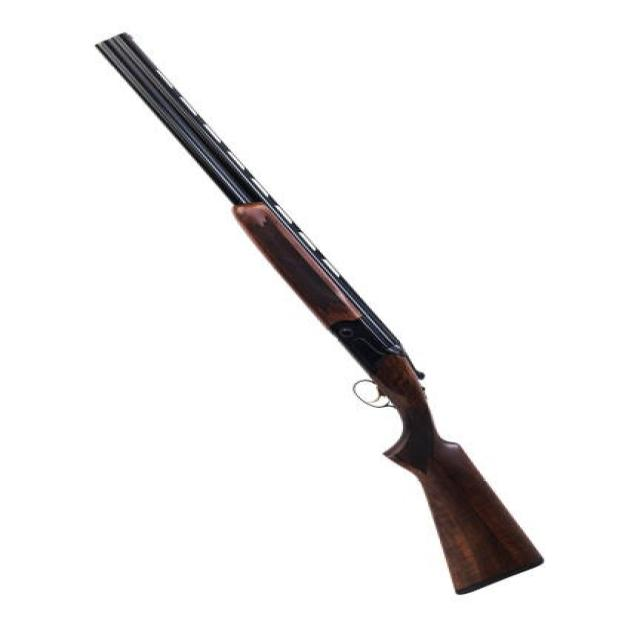rifle: (86, 21, 553, 604)
